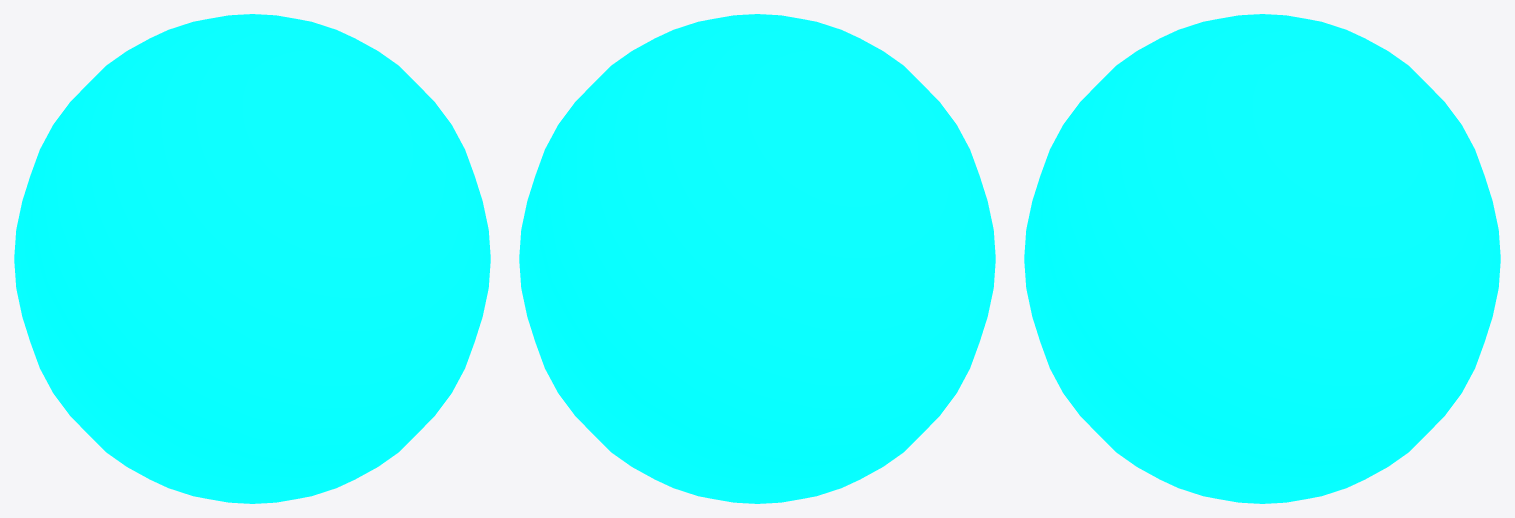
The model's file is crystalorb_v04.fbx.
3 renders of one model, left to right at view 1: azimuth 30°, elevation 25°; view 2: azimuth 150°, elevation 25°; view 3: azimuth 270°, elevation 25°, orthographic.
Parts seen in each view (by area): view 1: Orb_glow; view 2: Orb_glow; view 3: Orb_glow.
Part boxes in pixels (box(x1,y1,x2,y2)): Orb_glow: box(14, 14, 490, 503); Orb_glow: box(519, 14, 995, 503); Orb_glow: box(1024, 14, 1500, 503).
Bounding box in the file's own units: 1.92 × 1.99 × 1.92.
1 material, 1 textured.
